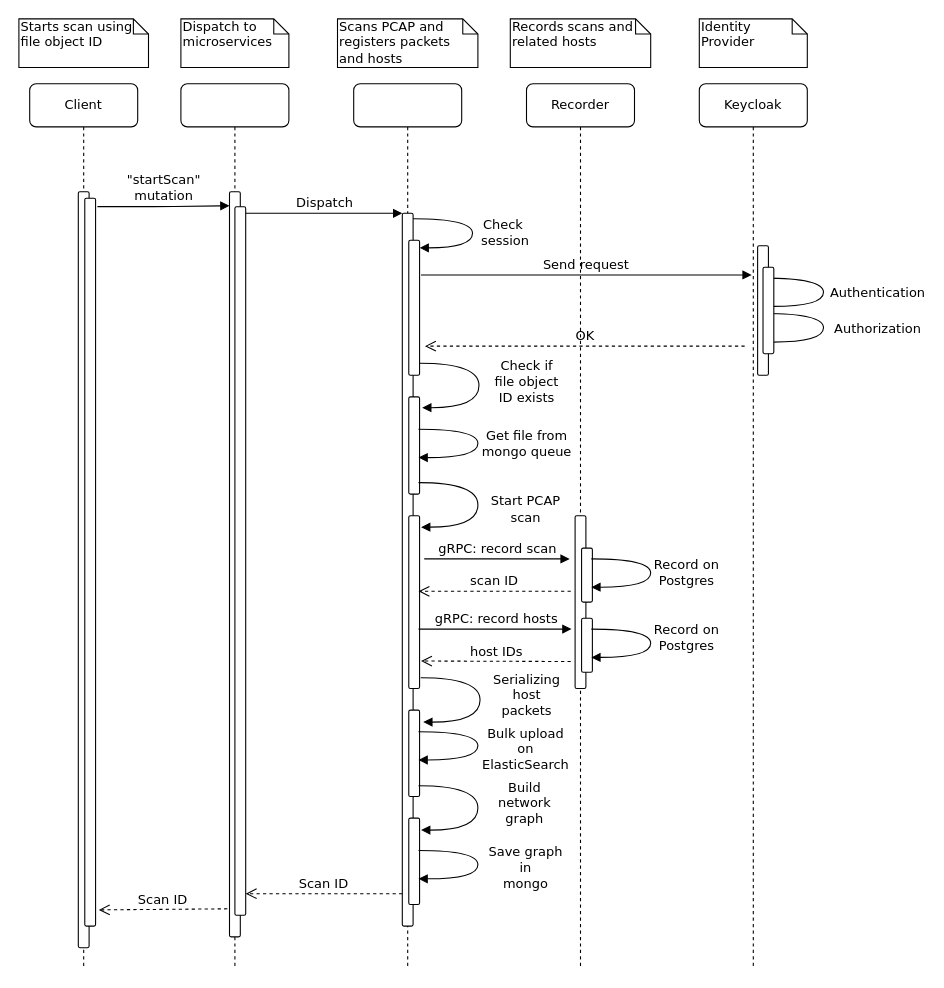
Image size: 944x988. Some labels were removed from this diagram. Each missing label, with the box of its shape:
Apollo Router: (180, 83, 289, 969)
Decoder: (353, 83, 462, 969)
